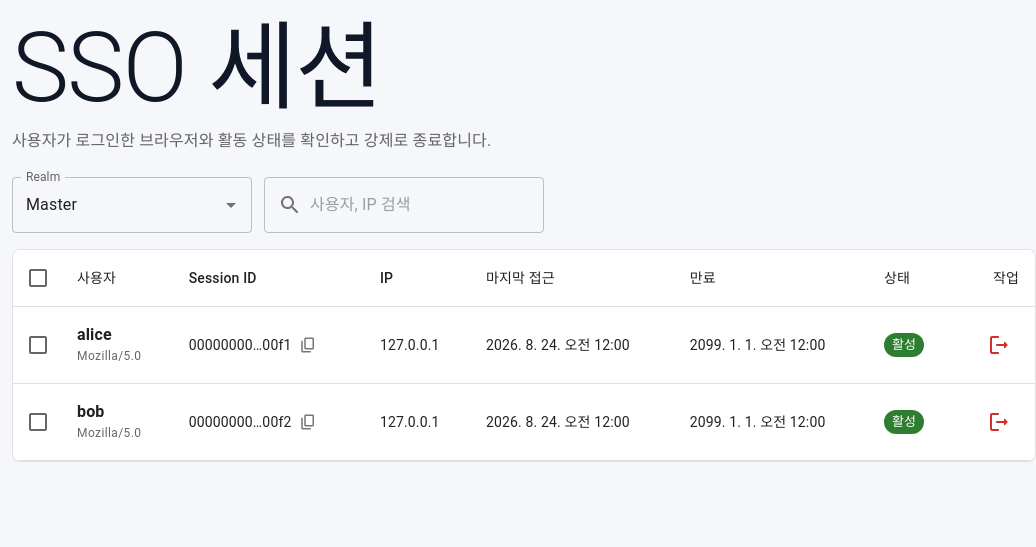
Test case: 검색어가 바뀌면 선택이 풀린다
The image size is (1036, 547).
Expected: the text "alice" is shown, [77,325,112,344]
Click the checkbox named "alice 세션 선택" at (38, 345), box [26,333,50,357]
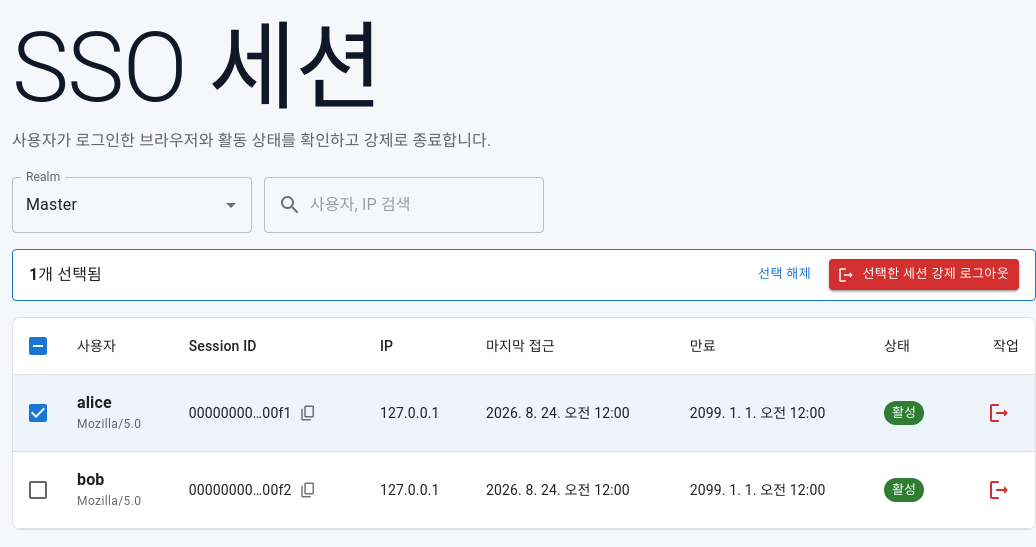
Result: the text "1개 선택됨" is shown at [29,263,102,287]
Type "bob" into the field named "세션 검색" at (427, 205), box [310,177,544,233]
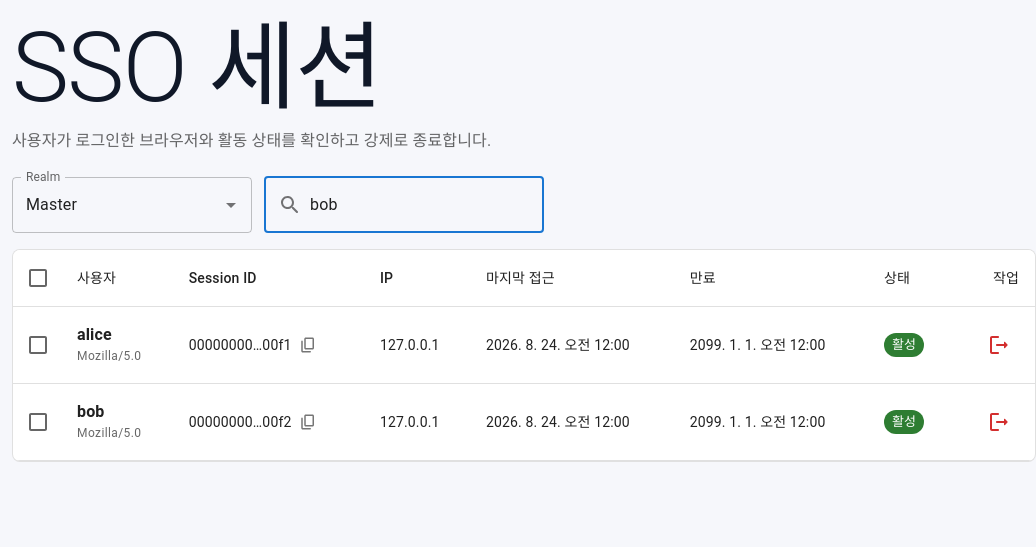
Expected: the text "alice" is shown, [77,325,112,344]
Result: the text "1개 선택됨" is gone
